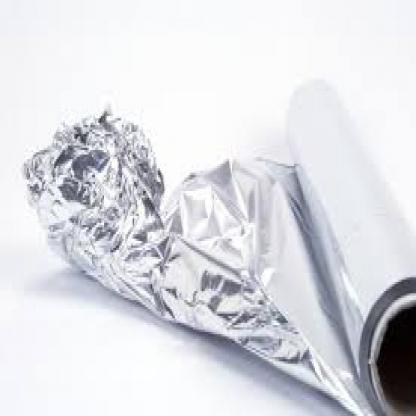METAL: (20, 82, 414, 414)
